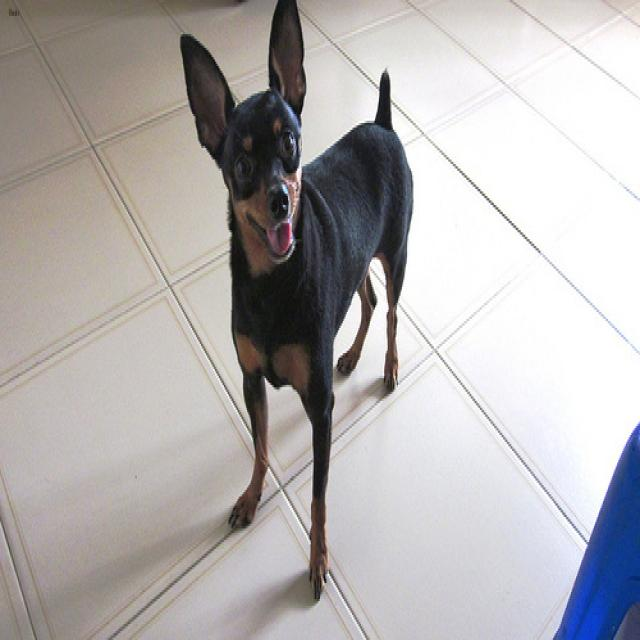dog-miniature_pinscher: (177, 2, 421, 606)
